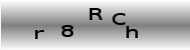8: (59, 24, 75, 38)
C: (111, 11, 126, 26)
R: (87, 7, 104, 22)
h: (124, 24, 139, 39)
r: (33, 29, 45, 40)
